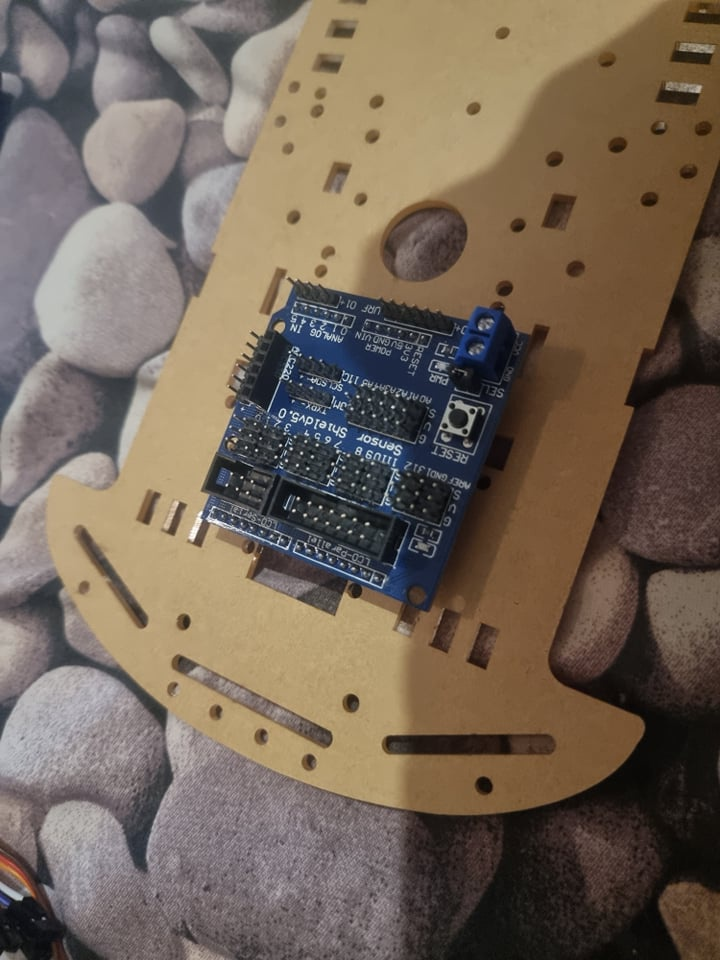5V EXPANSION: (198, 275, 528, 616)
